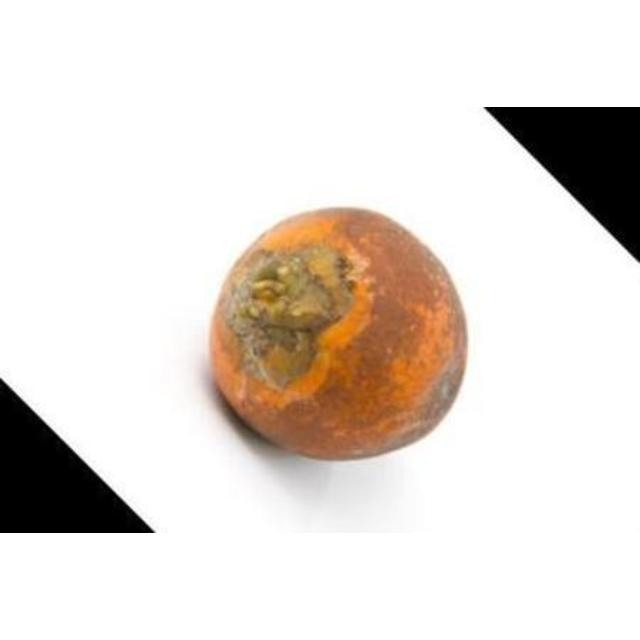good: (209, 208, 468, 464)
